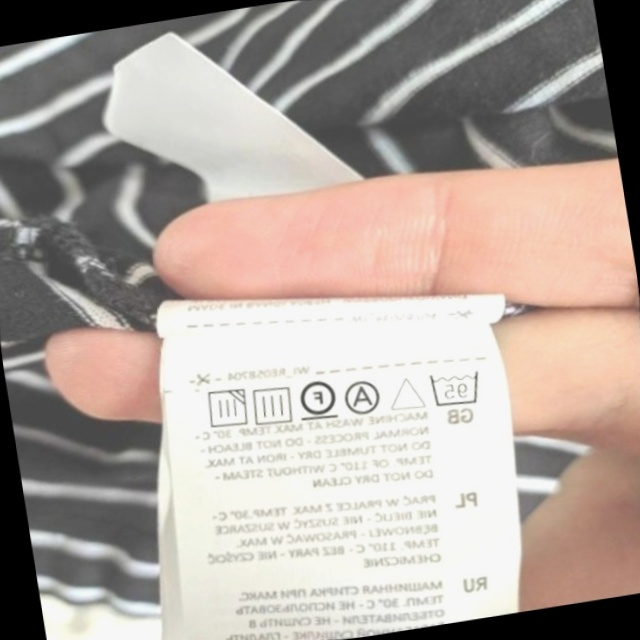95C: (421, 361, 488, 415)
bleach: (384, 367, 430, 418)
drip_dry: (245, 378, 300, 431)
drip_dry_in_shade: (197, 381, 253, 437)
dry_clean: (339, 373, 388, 421)
dry_clean_petrol_only: (292, 370, 343, 427)
